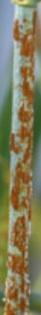Wheat: (12, 109, 35, 166), (14, 4, 38, 55), (7, 215, 30, 261), (6, 266, 30, 310), (14, 62, 36, 99), (14, 172, 32, 211)
